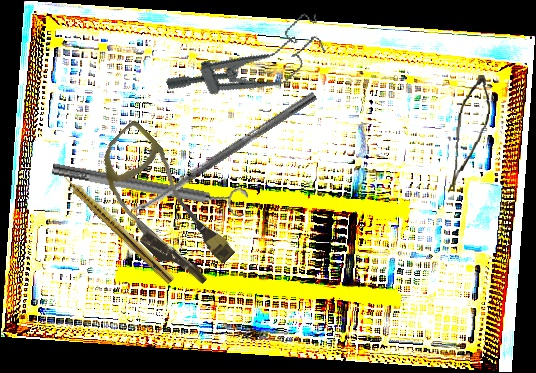Cannula: (76, 118, 250, 295)
Fixation Ring: (49, 151, 250, 221)
Handpiece: (56, 167, 178, 286)
Micro Scissor: (447, 72, 493, 198)
Speculum: (161, 9, 335, 123)
Surgical Spoon: (129, 90, 318, 218)
